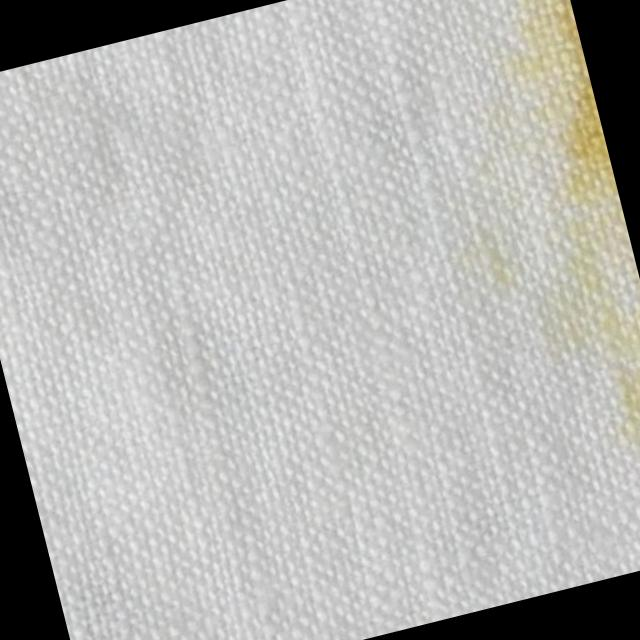Stain: (403, 0, 640, 484)
